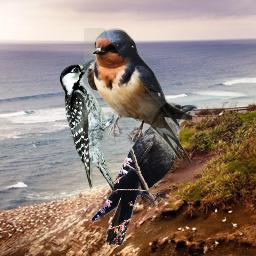Crow: (91, 101, 198, 245)
Swallow: (84, 28, 192, 165)
Woodpecker: (59, 58, 114, 192)
